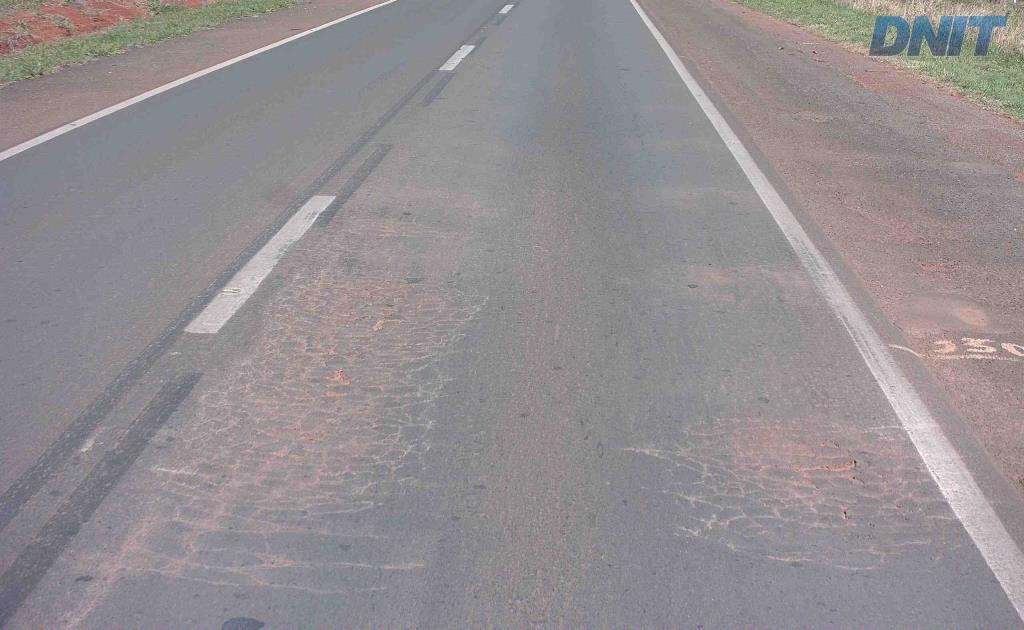pothole: (790, 452, 871, 485), (365, 308, 411, 332), (321, 365, 357, 391)
